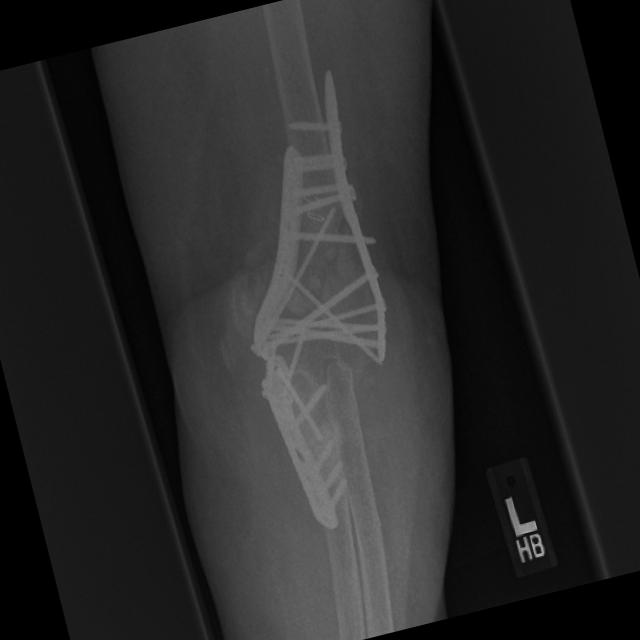elbow positive: (295, 229, 378, 316)
